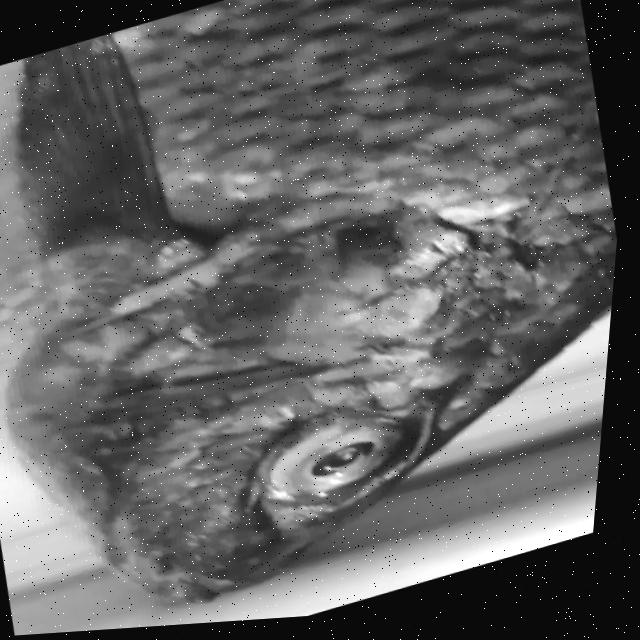Non-Fresh: (272, 389, 442, 525)
